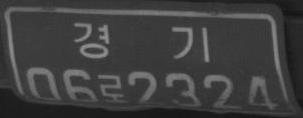0: (24, 65, 63, 103)
2: (203, 72, 243, 110), (129, 69, 163, 107)
3: (164, 71, 202, 109)
4: (245, 73, 279, 111)
6: (62, 66, 99, 105)
경기_D: (72, 20, 211, 63)
로: (99, 73, 129, 105)
